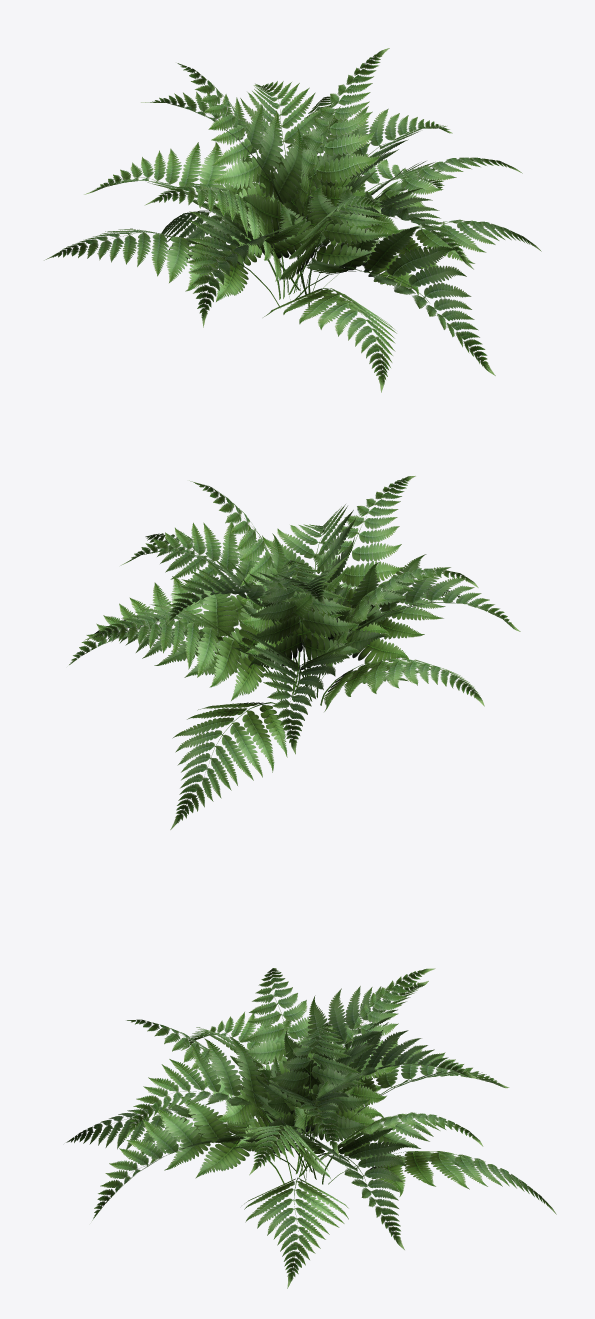
The model's file is fern_3.glb.
3 views of the same model, one above another, from view 1: azimuth 30°, elevation 25°; view 2: azimuth 150°, elevation 25°; view 3: azimuth 270°, elevation 25° (orthographic). The views are drawn at different scales.
Visible parts, largest first — view 1: SM_MZRa_Fern_B053_MI_MZRa_Fern_B053_0; view 2: SM_MZRa_Fern_B053_MI_MZRa_Fern_B053_0; view 3: SM_MZRa_Fern_B053_MI_MZRa_Fern_B053_0.
Part boxes in pixels (<box>): SM_MZRa_Fern_B053_MI_MZRa_Fern_B053_0: <box>44,48,541,392</box>; SM_MZRa_Fern_B053_MI_MZRa_Fern_B053_0: <box>69,476,520,829</box>; SM_MZRa_Fern_B053_MI_MZRa_Fern_B053_0: <box>66,968,556,1288</box>.
Bounding box in the file's own units: 2.69 × 1.56 × 2.75.
Materials: 1 (1 with a texture image).
